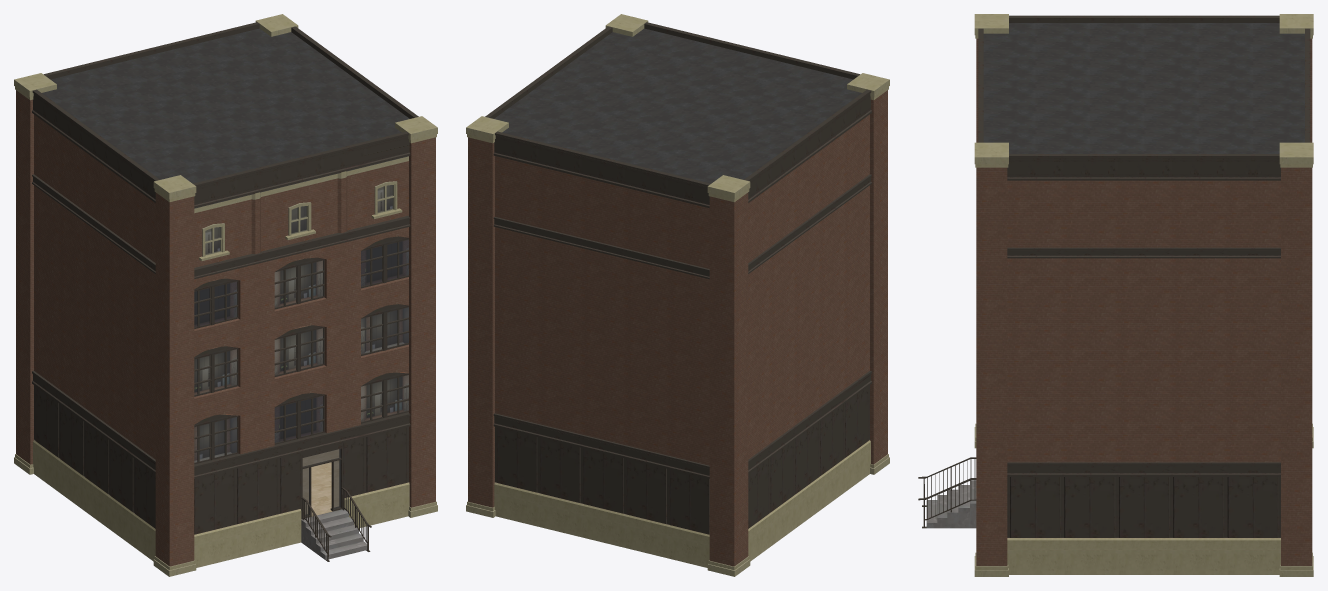
Rendered from Building_Small_1.glb.
3 views of the same model, side by side, from view 1: azimuth 30°, elevation 25°; view 2: azimuth 150°, elevation 25°; view 3: azimuth 270°, elevation 25° (orthographic). The views are drawn at different scales.
Parts seen in each view (by area): view 1: Building_Small_1; view 2: Building_Small_1; view 3: Building_Small_1.
Part boxes in pixels (x1,y1,x2,y2): Building_Small_1: (14,14,437,576); Building_Small_1: (466,14,889,576); Building_Small_1: (918,14,1313,576).
Size of the model in its own units: 12.46 by 17.03 by 14.54.
Materials: 10 (9 with a texture image).
